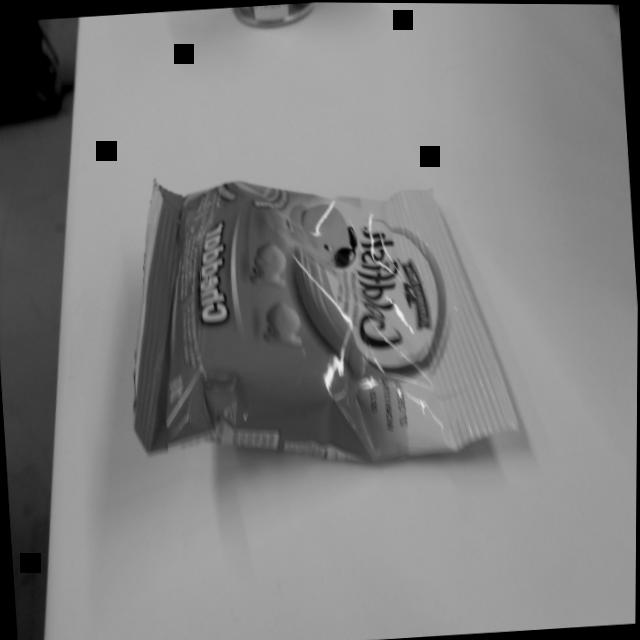crackers: (111, 141, 533, 485)
